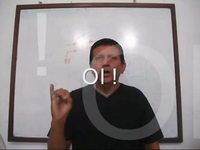oi: (49, 83, 74, 126)
